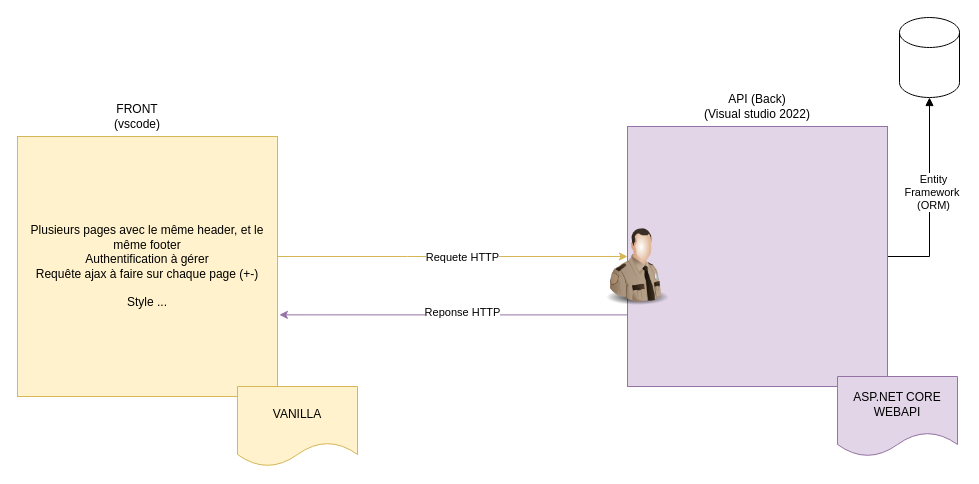
The diagram is 979 pixels wide and 484 high, and some of its shapes have lost their labels. Each missing label, with the centre of its shape:
"BDD" goes at point (929, 57).
"CORS policy AllowAnyone" goes at point (637, 266).
